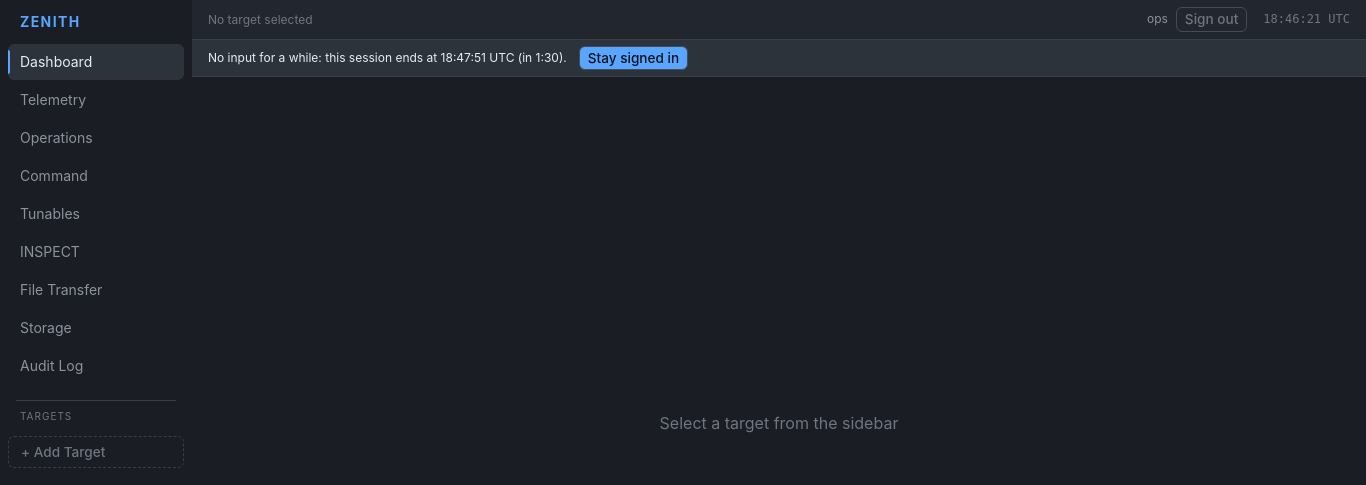
Test: App session gate › prompts to stay signed in before the idle deadline and keeps the session alive on request
The width and height of the screenshot is (1366, 485).
Click the button "Stay signed in" at {"x": 633, "y": 58}, box 579,46 -> 688,70
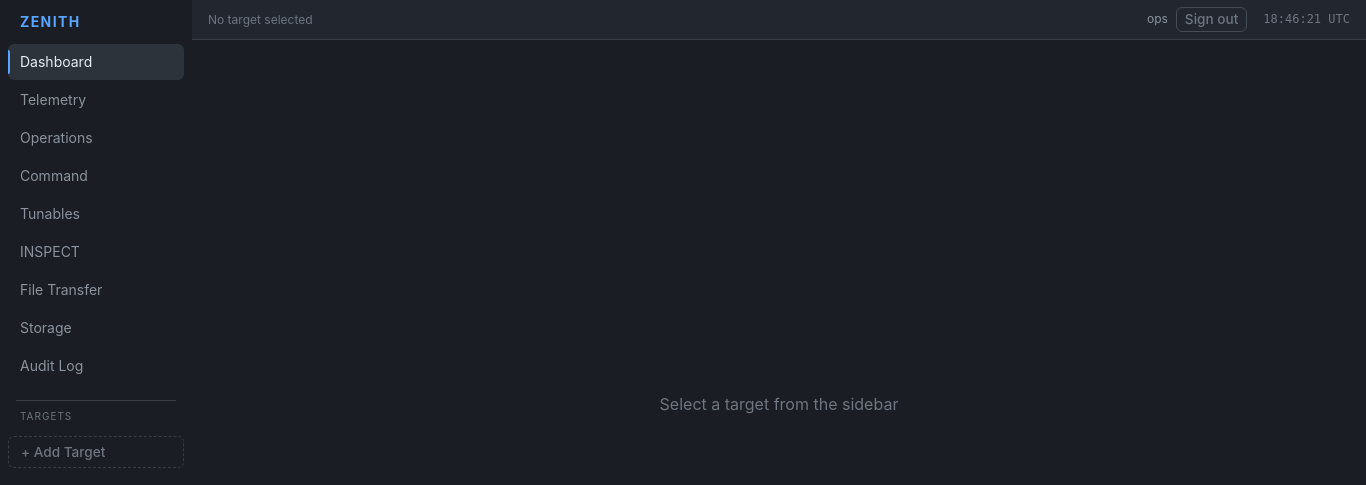
Check: the button "Stay signed in" is gone
